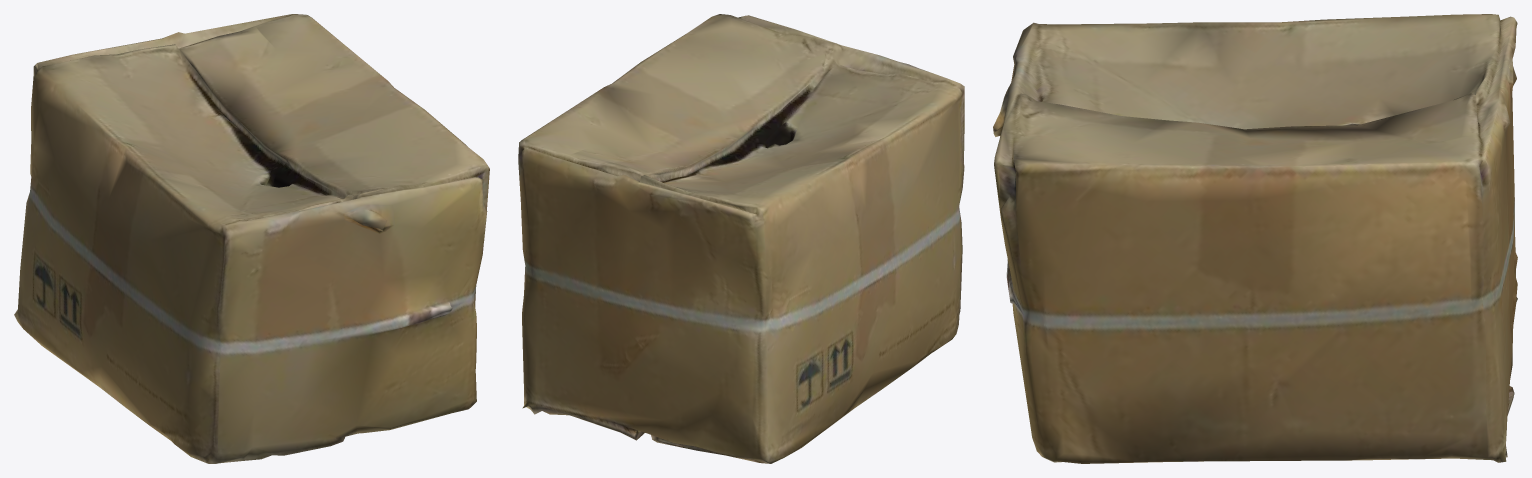
File: ph_cardboard_box_01.glb
3 views of the same model, side by side, from view 1: azimuth 30°, elevation 25°; view 2: azimuth 150°, elevation 25°; view 3: azimuth 270°, elevation 25° (orthographic). The views are drawn at different scales.
Visible parts, largest first — view 1: cardboard_box_01; view 2: cardboard_box_01; view 3: cardboard_box_01.
Boxes of the visible parts, x1=… form: cardboard_box_01: x1=14, y1=14, x2=489, y2=463; cardboard_box_01: x1=518, y1=14, x2=964, y2=463; cardboard_box_01: x1=993, y1=14, x2=1517, y2=463.
Bounding box in the file's own units: 0.3865 × 0.3407 × 0.5159.
Materials: 1 (1 with a texture image).
